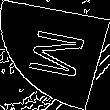M_E: (20, 27, 90, 83)
